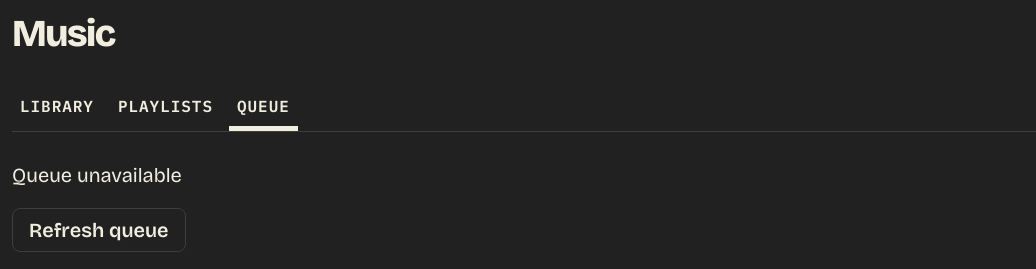
Test: recovers the queue through Refresh after the initial snapshot fails
expect the message reads "Queue unavailable": met, box [12, 163, 182, 187]
Click the button "Refresh queue" at (99, 230), box [12, 208, 186, 252]
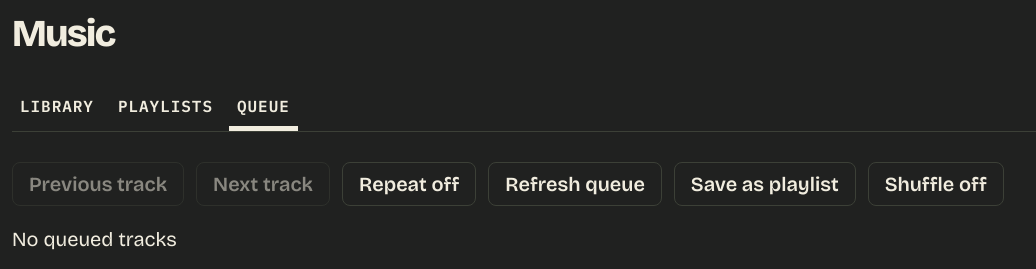
expect the text "No queued tracks" is shown: met, box [12, 227, 177, 251]
expect the text "Queue unavailable" is gone: met
